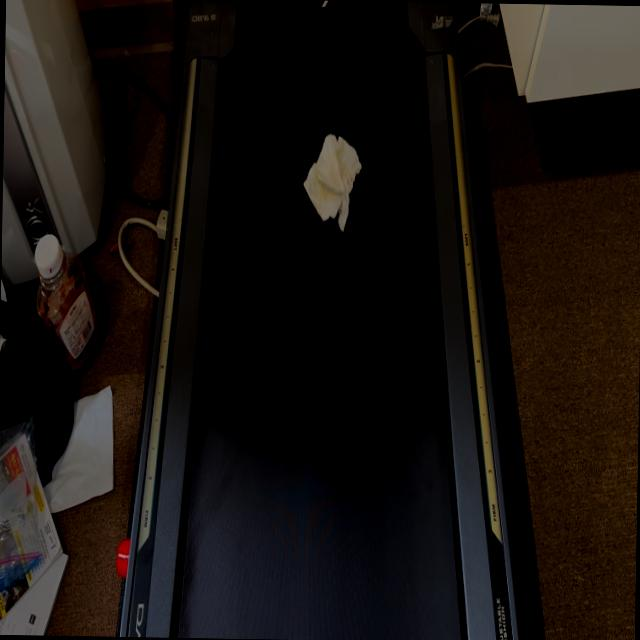Recycle: (302, 126, 364, 238)
